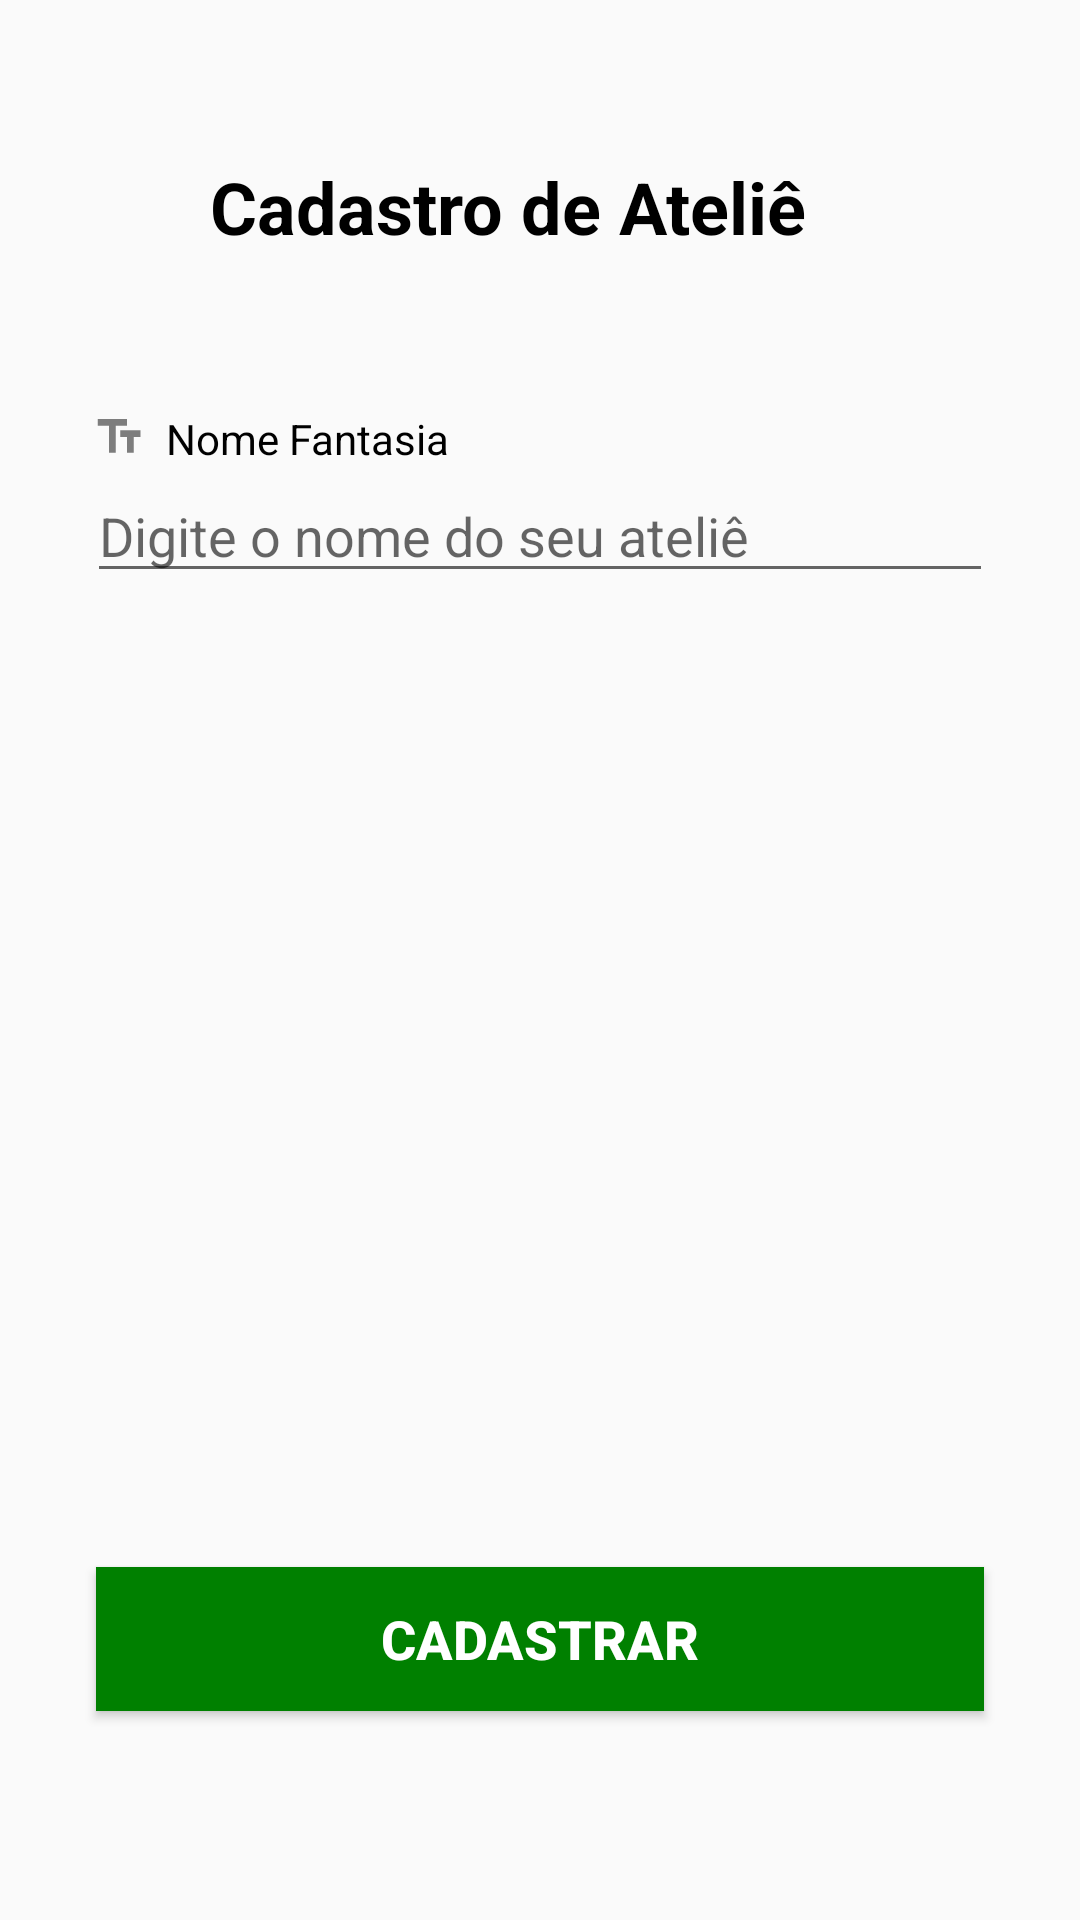

Icon bounding boxes for this 1080×1920 phone screenshot, format (x1, y1, x2, y2):
text fields: (97, 419, 141, 453)
